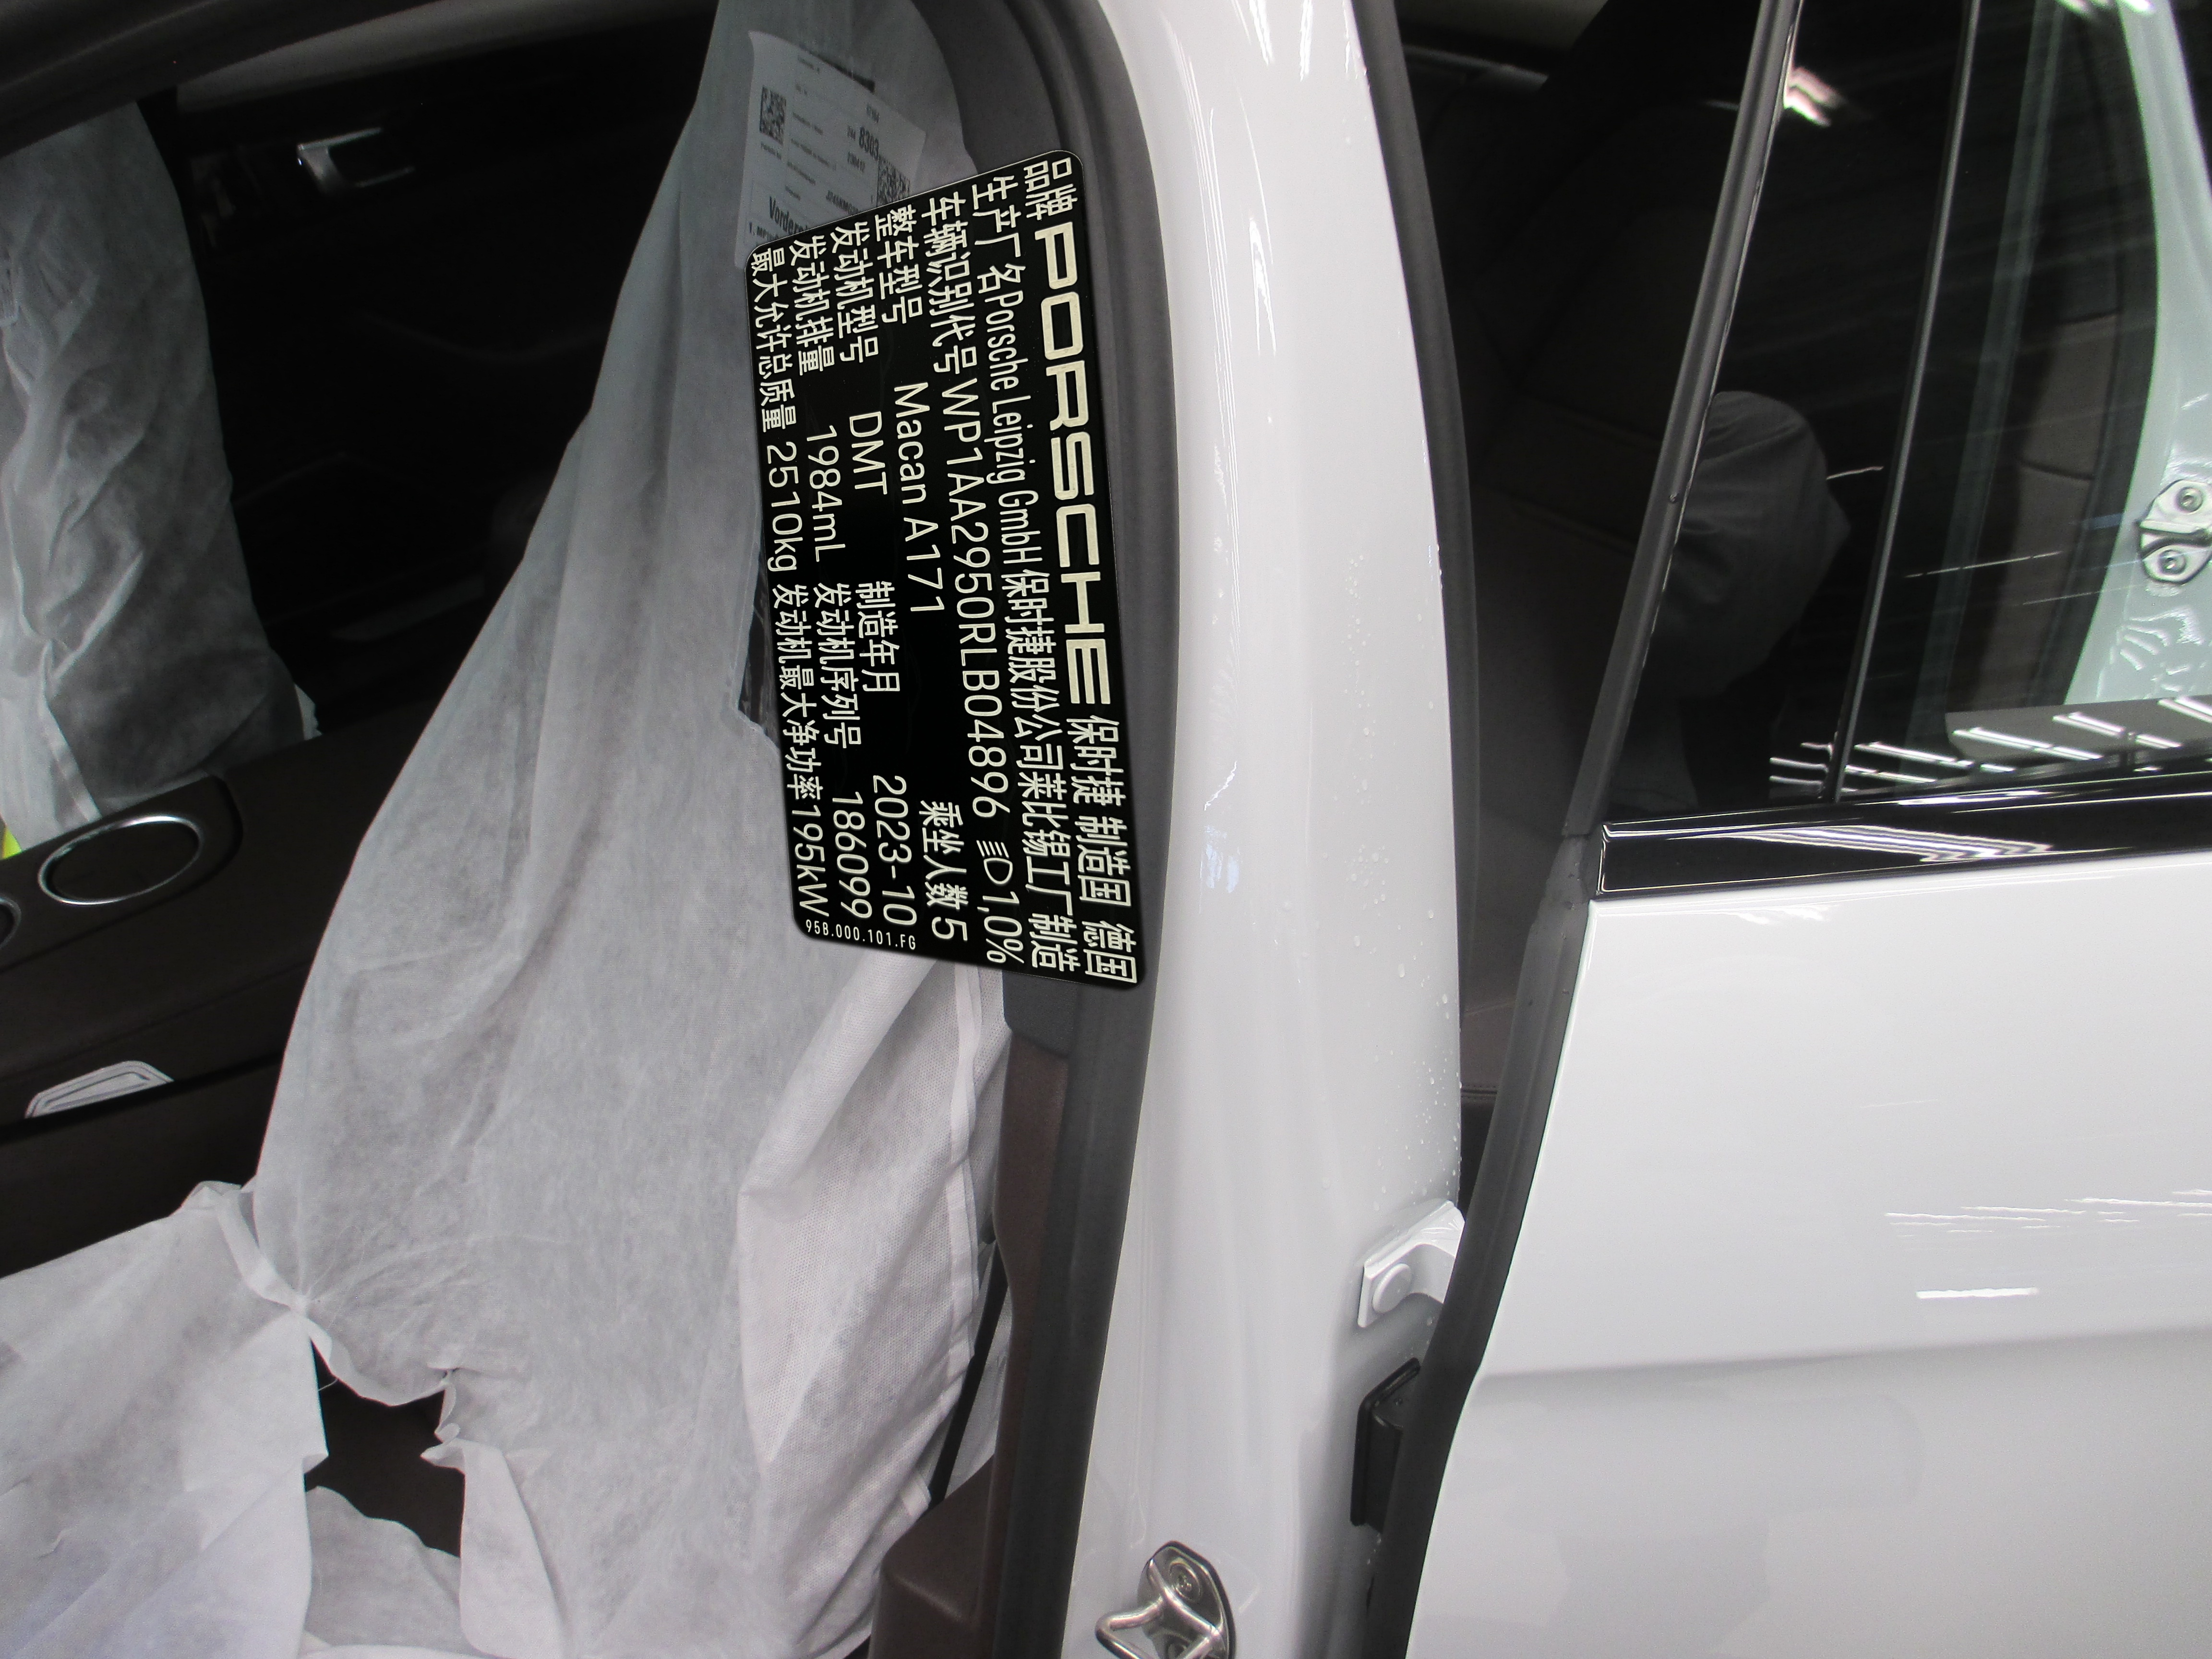Typlabel-China: (744, 150, 1144, 990)
